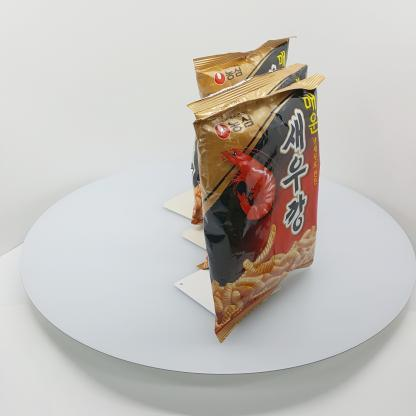Plastic Packaging: (183, 78, 337, 341)
